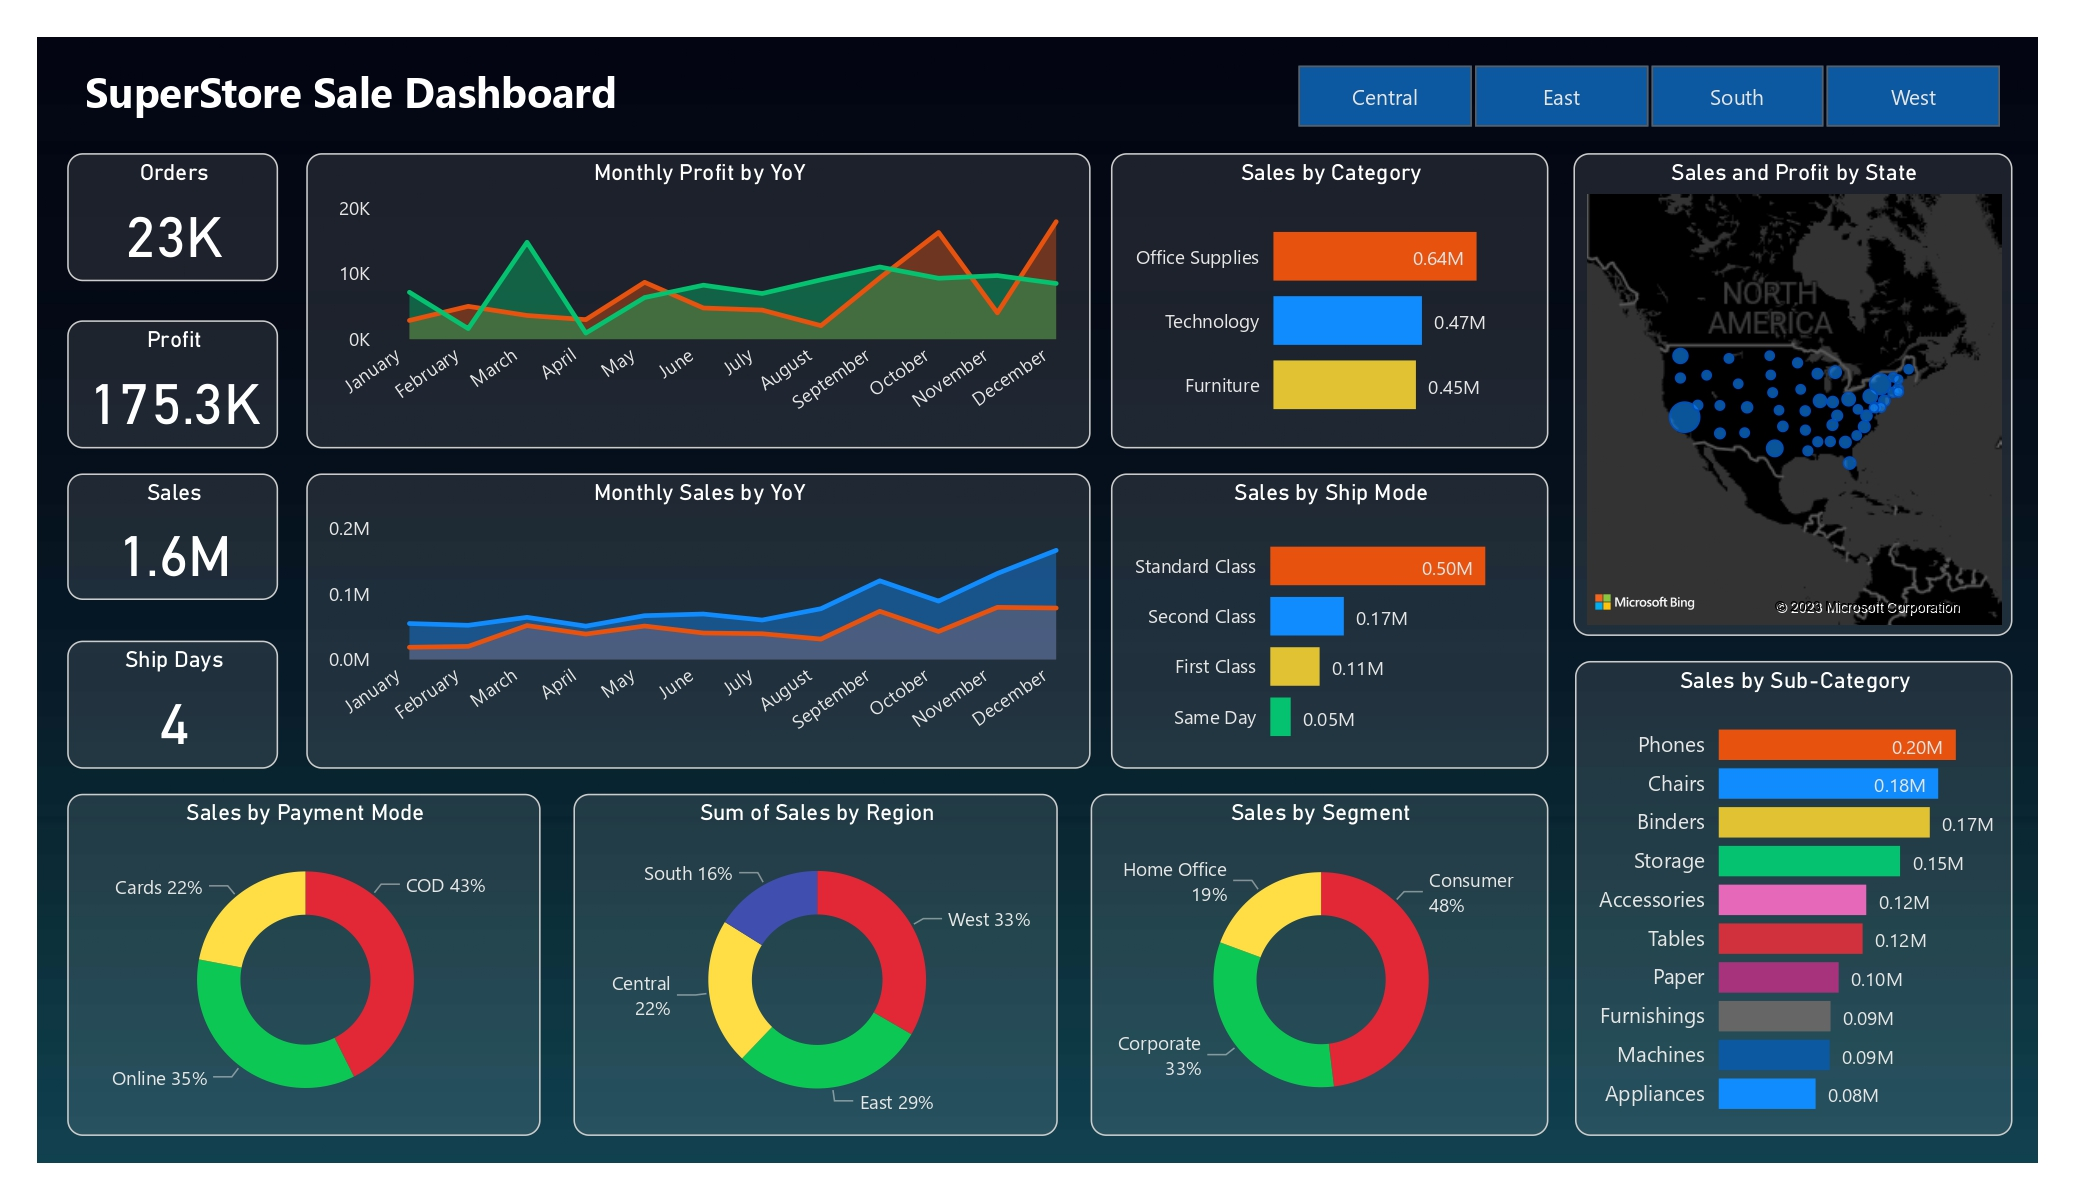

This screenshot's page, from the dashboard's own definition file:
{"tool":"powerbi","page":{"name":"Page 1","canvas":[1280,720],"ordinal":0},"visuals":[{"type":"clusteredBarChart","title":"Sales by Category","fields":{"Category":["SuperStore_Sales_Dataset.Category"],"Y":["Sum(SuperStore_Sales_Dataset.Sales)"]},"box":[687.5,74.1,279.9,189.4],"z":0},{"type":"clusteredBarChart","title":"Sales by Sub-Category","fields":{"Y":["Sum(SuperStore_Sales_Dataset.Sales)"],"Category":["SuperStore_Sales_Dataset.Sub-Category"]},"box":[983.9,399.3,279.9,303.3],"z":1000},{"type":"clusteredBarChart","title":"Sales by Ship Mode","fields":{"Y":["Sum(SuperStore_Sales_Dataset.Sales)"],"Category":["SuperStore_Sales_Dataset.Ship Mode"]},"box":[687.5,278.6,279.9,189.4],"z":2000},{"type":"areaChart","title":"Monthly Sales by YoY","fields":{"Y":["Sum(SuperStore_Sales_Dataset.Sales)"],"Category":["SuperStore_Sales_Dataset.Order Date.Variation.Date Hierarchy.Month","SuperStore_Sales_Dataset.Order Date.Variation.Date Hierarchy.Day"],"Series":["SuperStore_Sales_Dataset.Order Date.Variation.Date Hierarchy.Year"]},"box":[171.5,278.6,502.2,189.4],"z":3000},{"type":"areaChart","title":"Monthly Profit by YoY","fields":{"Category":["SuperStore_Sales_Dataset.Order Date.Variation.Date Hierarchy.Month","SuperStore_Sales_Dataset.Order Date.Variation.Date Hierarchy.Day"],"Series":["SuperStore_Sales_Dataset.Order Date.Variation.Date Hierarchy.Year"],"Y":["Sum(SuperStore_Sales_Dataset.Profit)"]},"box":[171.5,74.1,502.2,189.4],"z":4000},{"type":"map","title":"Sales and Profit by State","fields":{"Category":["SuperStore_Sales_Dataset.State"],"Size":["Sum(SuperStore_Sales_Dataset.Sales)"]},"box":[982.5,74.1,281.3,308.7],"z":5000},{"type":"donutChart","title":"Sales by Segment","fields":{"Category":["SuperStore_Sales_Dataset.Segment"],"Y":["Sum(SuperStore_Sales_Dataset.Sales)"]},"box":[673.8,484.4,293.7,218.2],"z":6000},{"type":"donutChart","title":"Sales by Payment Mode","fields":{"Y":["Sum(SuperStore_Sales_Dataset.Sales)"],"Category":["SuperStore_Sales_Dataset.Payment Mode"]},"box":[19.2,484.4,303.3,218.2],"z":7000},{"type":"donutChart","fields":{"Y":["Sum(SuperStore_Sales_Dataset.Sales)"],"Category":["SuperStore_Sales_Dataset.Region"]},"box":[343.1,484.4,310.1,218.2],"z":8000},{"type":"slicer","fields":{"Values":["SuperStore_Sales_Dataset.Region"]},"box":[780.8,11,499.5,53.5],"z":9000},{"type":"textbox","box":[9.6,11,381.5,60.4],"z":10000},{"type":"card","title":"Sales","fields":{"Values":["Sum(SuperStore_Sales_Dataset.Sales)"]},"box":[19.2,278.6,134.5,81],"z":11000},{"type":"card","title":"Profit","fields":{"Values":["Sum(SuperStore_Sales_Dataset.Profit)"]},"box":[19.2,181.1,134.5,82.3],"z":12000},{"type":"card","title":"Ship Days","fields":{"Values":["Avg(SuperStore_Sales_Dataset.AvgDelivery)"]},"box":[19.2,385.6,134.5,82.3],"z":13000},{"type":"card","title":"Orders","fields":{"Values":["Sum(SuperStore_Sales_Dataset.AvgDelivery)"]},"box":[19.2,74.1,134.5,82.3],"z":14000}]}

Visuals, with their boxes in screenshot pixels (x1, y1, x2, y2):
"Sales by Category" clusteredBarChart: [left=1112, top=153, right=1549, bottom=449]
"Sales by Sub-Category" clusteredBarChart: [left=1575, top=661, right=2012, bottom=1135]
"Sales by Ship Mode" clusteredBarChart: [left=1112, top=473, right=1549, bottom=769]
"Monthly Sales by YoY" areaChart: [left=305, top=473, right=1090, bottom=769]
"Monthly Profit by YoY" areaChart: [left=305, top=153, right=1090, bottom=449]
"Sales and Profit by State" map: [left=1573, top=153, right=2012, bottom=636]
"Sales by Segment" donutChart: [left=1090, top=794, right=1549, bottom=1135]
"Sales by Payment Mode" donutChart: [left=68, top=794, right=541, bottom=1135]
donutChart - Sum(SuperStore_Sales_Dataset.Sales) x SuperStore_Sales_Dataset.Region: [left=574, top=794, right=1058, bottom=1135]
slicer - SuperStore_Sales_Dataset.Region: [left=1258, top=55, right=2038, bottom=138]
textbox: [left=52, top=55, right=649, bottom=149]
"Sales" card: [left=68, top=473, right=278, bottom=599]
"Profit" card: [left=68, top=320, right=278, bottom=449]
"Ship Days" card: [left=68, top=640, right=278, bottom=769]
"Orders" card: [left=68, top=153, right=278, bottom=282]
